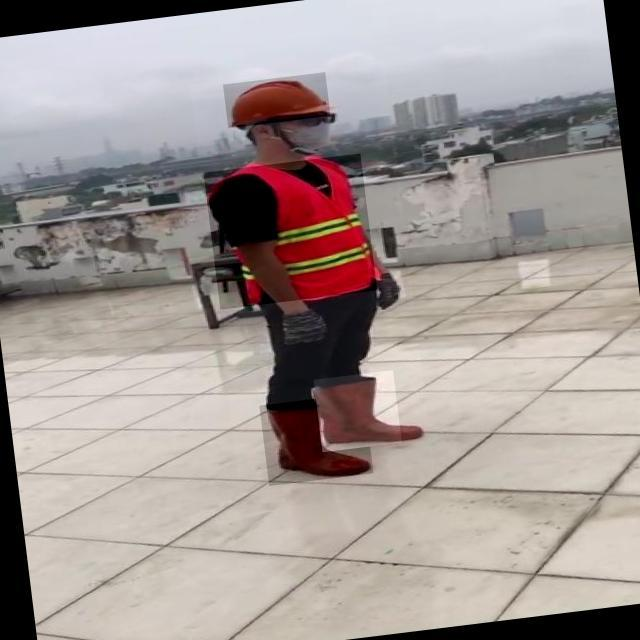Helmet: (223, 72, 331, 128)
Human: (190, 60, 435, 495)
Safety Boot: (259, 393, 373, 486), (314, 370, 402, 452)
Safety Vest: (204, 153, 378, 309)
